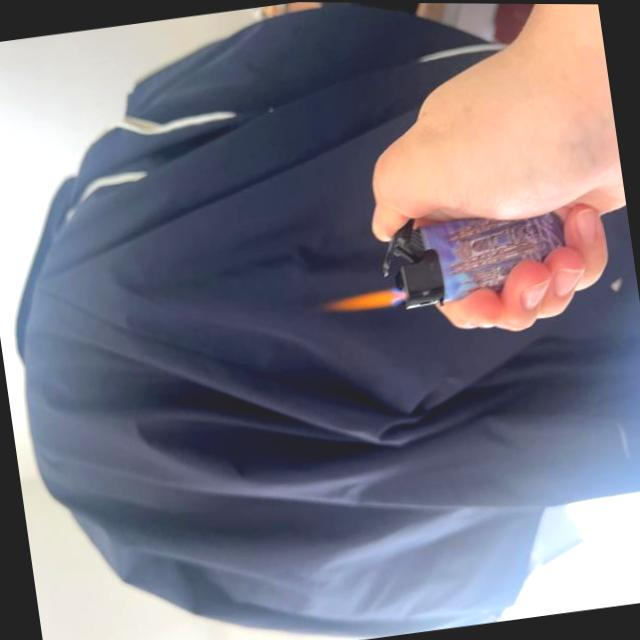Fire: (322, 285, 407, 317)
